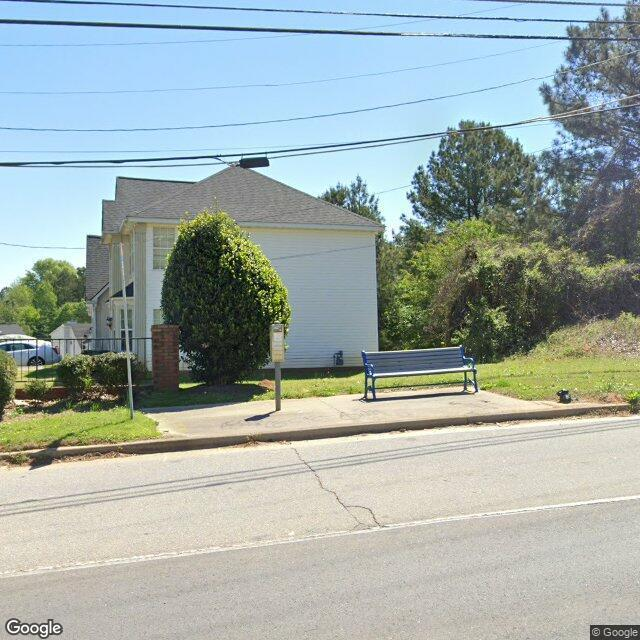seating: (362, 346, 477, 402)
